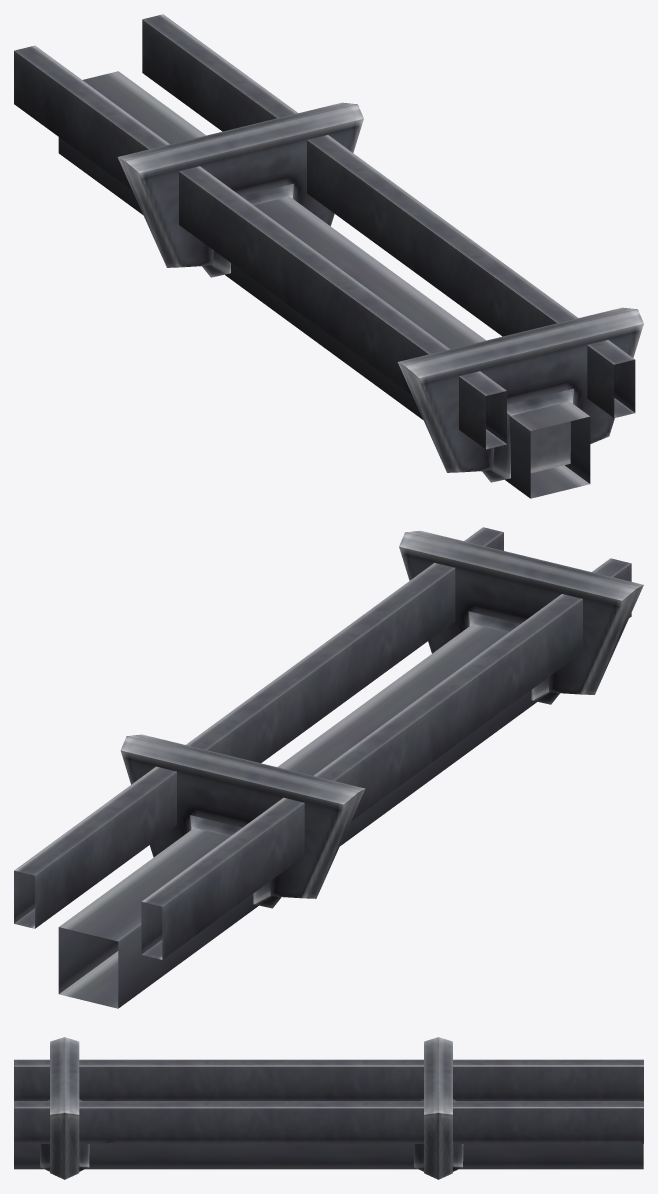
File: SM_EN_1002_gangjia03.FBX
The picture shows the model from 3 angles, top to bottom: view 1: azimuth 30°, elevation 25°; view 2: azimuth 150°, elevation 25°; view 3: azimuth 270°, elevation 25°; orthographic projection. The views are drawn at different scales.
Parts seen in each view (by area): view 1: SM_EN_1002_gangjia03; view 2: SM_EN_1002_gangjia03; view 3: SM_EN_1002_gangjia03.
Boxes of the visible parts, bbox=[...] form: SM_EN_1002_gangjia03: bbox=[14, 14, 643, 498]; SM_EN_1002_gangjia03: bbox=[14, 527, 643, 1008]; SM_EN_1002_gangjia03: bbox=[14, 1037, 643, 1179].
Size of the model in its own units: 25.77 by 14.57 by 90.44.
